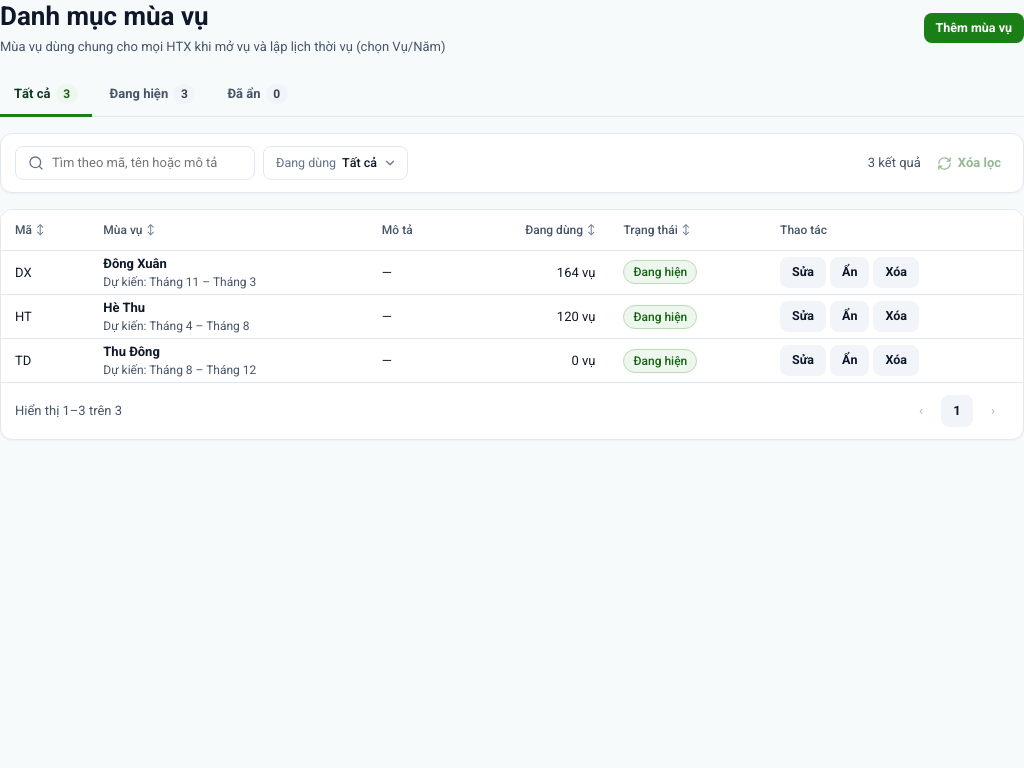
Test: Màn Danh mục mùa vụ (AH-7) › AC4: xóa mùa vụ đang dùng → báo chỉ được ẩn; không còn trong danh sách chọn nhưng vụ cũ vẫn có tên; cột Đang dùng là 'N vụ'
Click the button "Xóa" in the row of "Dự kiến: Tháng 4 – Tháng 8" at (896, 316), box [874,301,919,332]
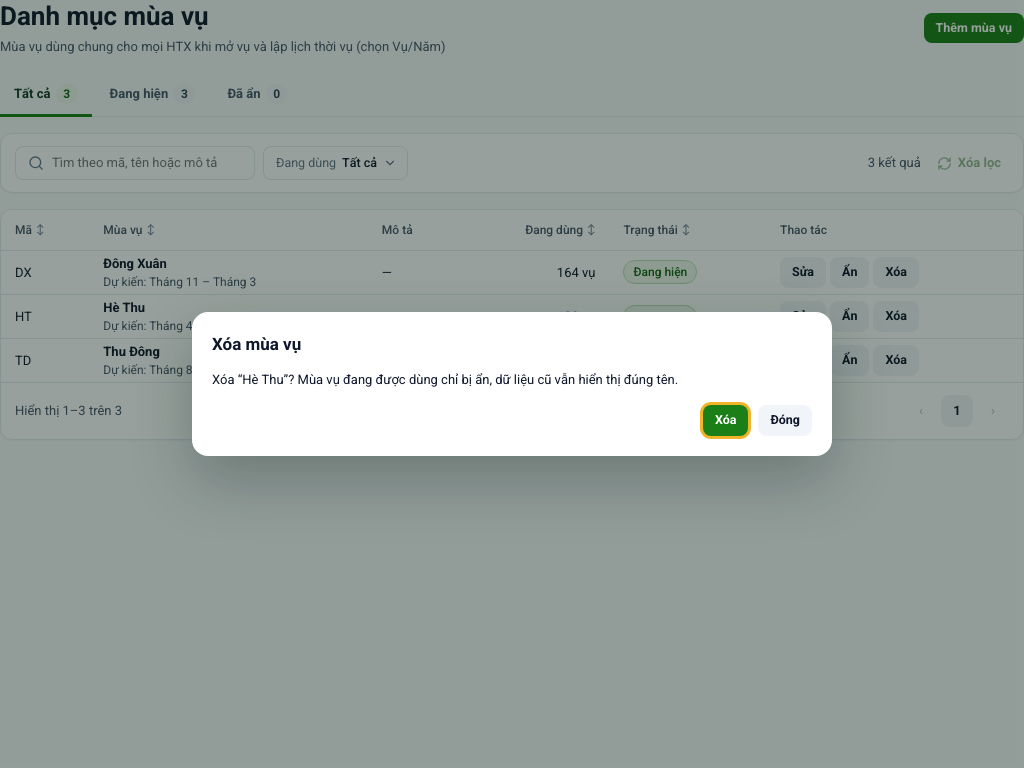
Click the button "Xóa" at (726, 420), box [703,405,748,436]
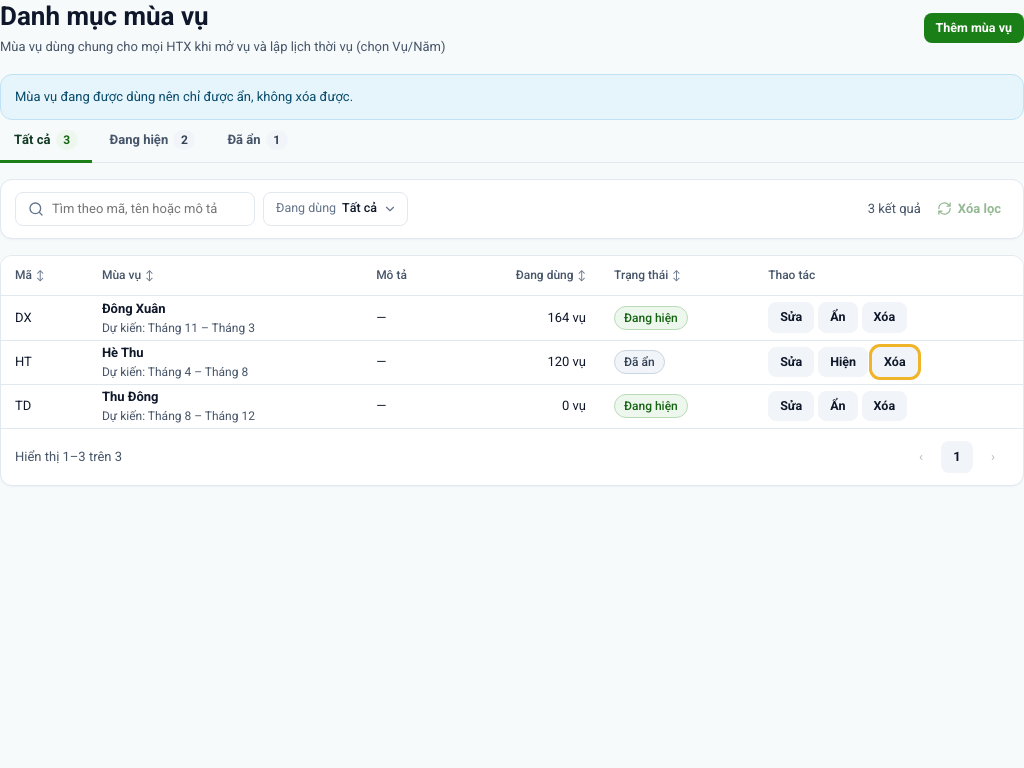
Now the message shows "chỉ được ẩn, không xóa được", box [15,89,353,104]
